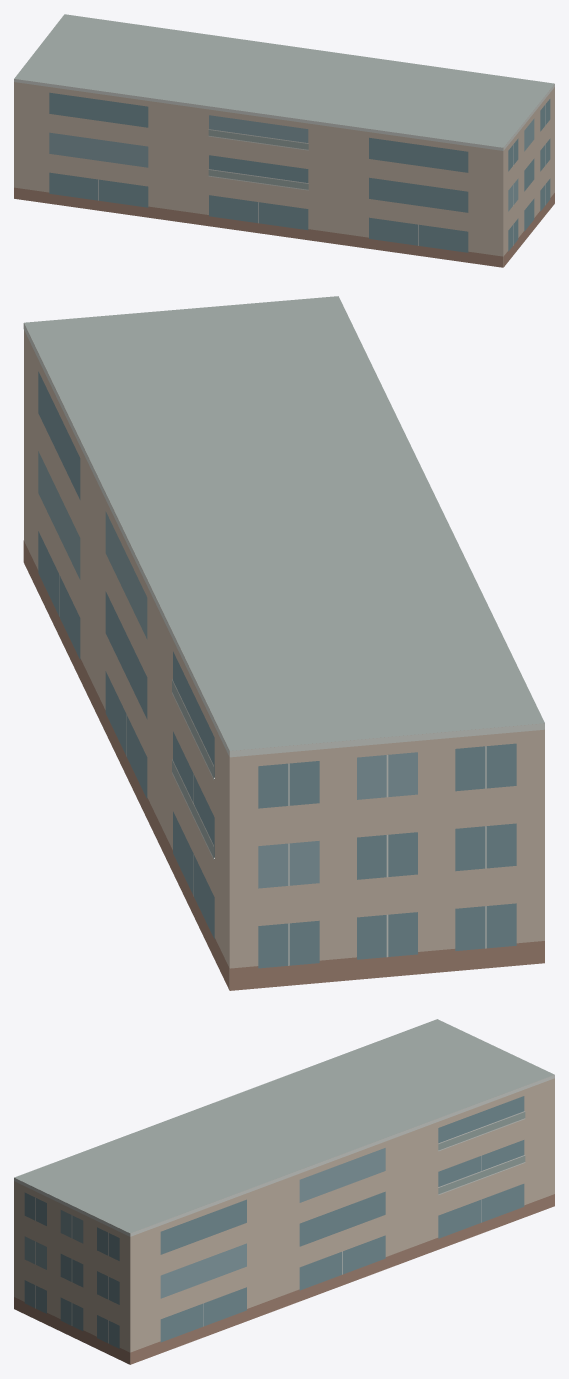
File: survey-upis-32737721.glb
3 renders of one model, top to bottom at view 1: azimuth 30°, elevation 25°; view 2: azimuth 150°, elevation 25°; view 3: azimuth 270°, elevation 25°, orthographic. The views are drawn at different scales.
Parts seen in each view (by area): view 1: survey-upis-32737721.tmp; view 2: survey-upis-32737721.tmp; view 3: survey-upis-32737721.tmp.
Part boxes in pixels (box(x1,y1,x2,y2)): survey-upis-32737721.tmp: box(14, 14, 554, 267); survey-upis-32737721.tmp: box(23, 296, 544, 990); survey-upis-32737721.tmp: box(14, 1019, 554, 1364).
Size of the model in its own units: 32.01 by 9.15 by 34.13.
